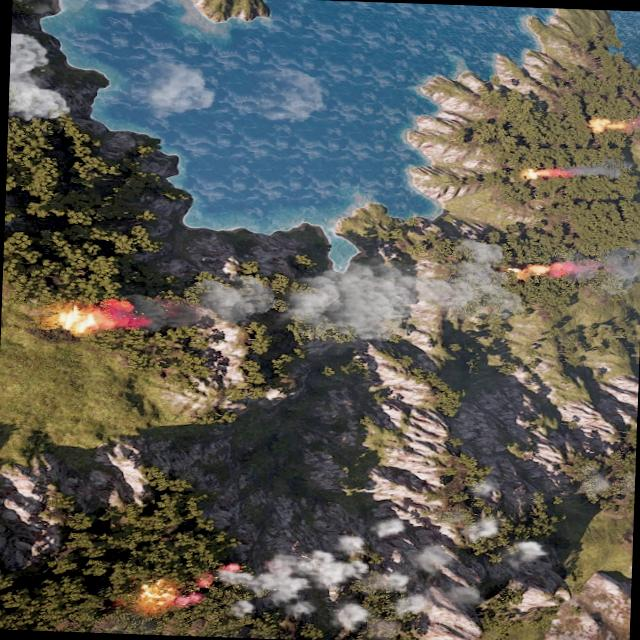fire: (51, 300, 138, 338), (510, 257, 573, 283), (584, 114, 640, 136), (140, 580, 182, 609), (521, 168, 565, 182)
smoke: (196, 472, 550, 640), (154, 230, 513, 348), (7, 30, 71, 122), (138, 66, 220, 121), (251, 70, 326, 124), (551, 246, 640, 289), (52, 0, 177, 17), (568, 162, 627, 184)
